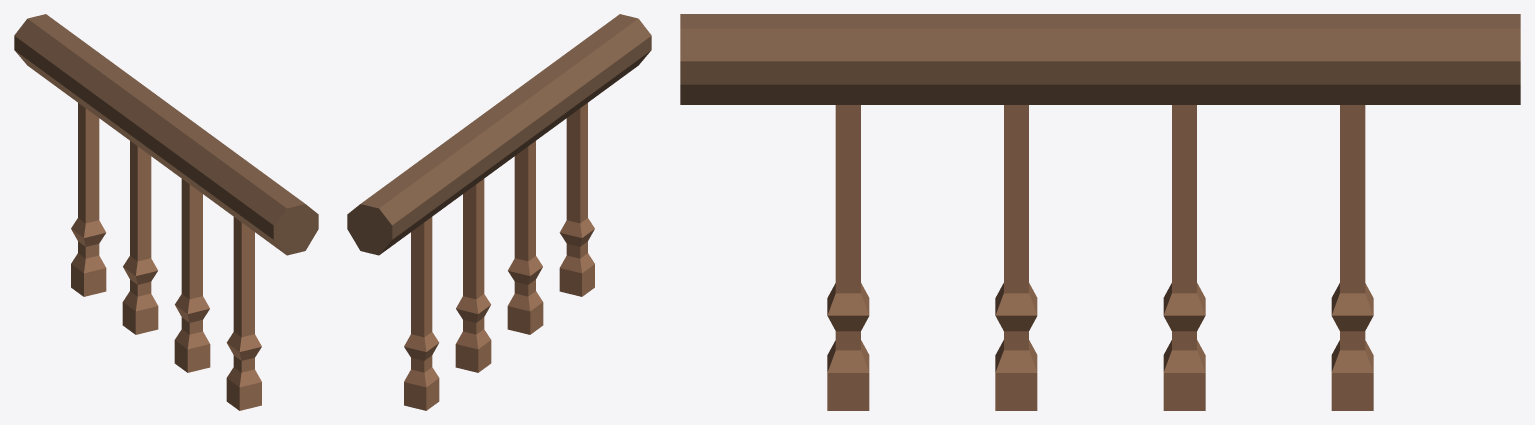
Rendered from Structure_Stairs_Railing_Landing_Side.obj.
3 renders of one model, left to right at view 1: azimuth 30°, elevation 25°; view 2: azimuth 150°, elevation 25°; view 3: azimuth 270°, elevation 25°, orthographic. The views are drawn at different scales.
Visible parts, largest first — view 1: object1; view 2: object1; view 3: object1.
Boxes of the visible parts, x1,y1,x2,y2 form: object1: (14,14,318,410); object1: (347,14,651,410); object1: (680,14,1520,410).
Size of the model in its own units: 0.1 by 0.5 by 1.
